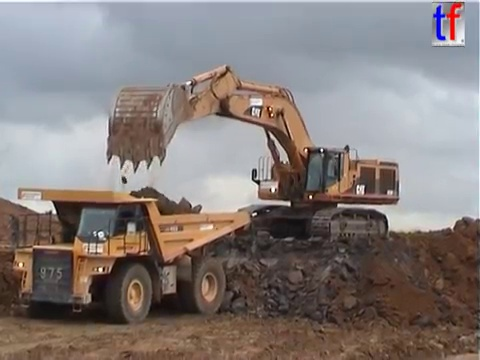excavator: (102, 62, 402, 249)
truck: (6, 186, 253, 326)
